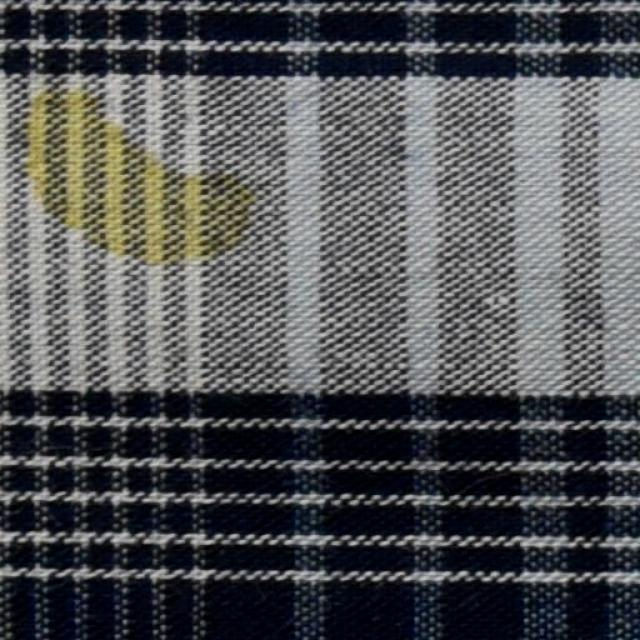Stain: (18, 81, 264, 279)
